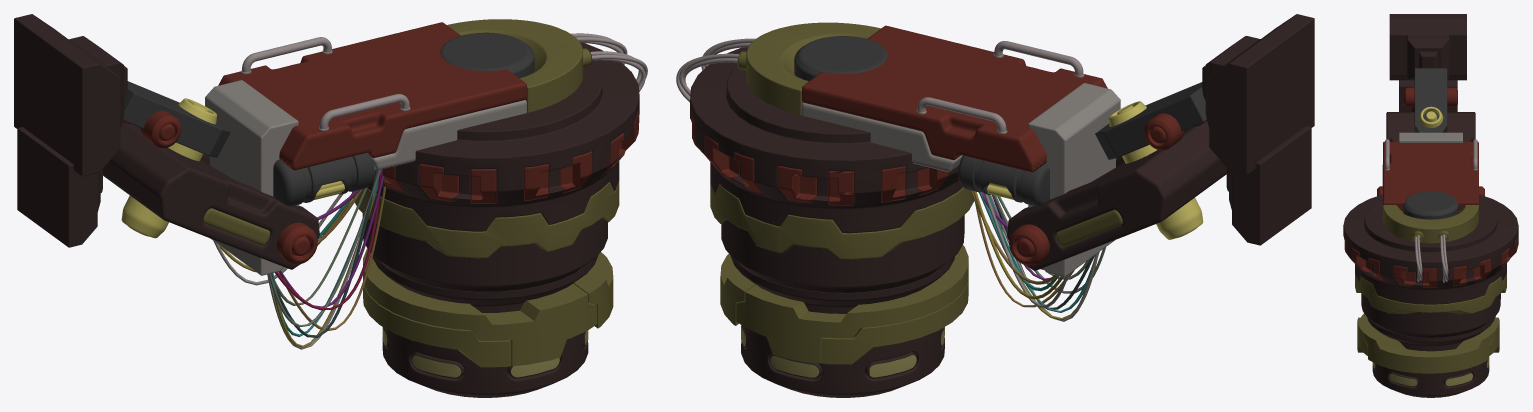
Rendered from 模型测试.fbx.
3 views of the same model, side by side, from view 1: azimuth 30°, elevation 25°; view 2: azimuth 150°, elevation 25°; view 3: azimuth 270°, elevation 25° (orthographic). The views are drawn at different scales.
Visible parts, largest first — view 1: 柱体.047, 柱体.044, 立方体.050, 柱体, Slice.003, 柱体.042, 柱体.043, Slice.009, 立方体.078, 柱体.045, GeoCables.003, 柱体.032 (+14 smaller); view 2: 柱体.047, 柱体.044, 立方体.050, Slice.003, 柱体, 柱体.042, Slice.009, 柱体.043, 立方体.078, 柱体.045, 柱体.041, 柱体.046 (+14 smaller); view 3: 柱体.047, 柱体.044, 立方体.050, Slice.003, Slice.004, 柱体.045, Slice.009, 柱体.041, 柱体.042, 柱体.046, Slice.005, Slice.006 (+7 smaller).
Part boxes in pixels (<box>): 柱体.047: <box>367,43,639,397</box>; 柱体.044: <box>218,22,526,170</box>; 立方体.050: <box>14,14,127,176</box>; 柱体: <box>363,248,597,367</box>; Slice.003: <box>362,213,607,312</box>; 柱体.042: <box>103,122,319,269</box>; 柱体.043: <box>205,80,298,275</box>; Slice.009: <box>352,181,619,258</box>; 立方体.078: <box>17,127,102,247</box>; 柱体.045: <box>447,19,592,112</box>; GeoCables.003: <box>267,168,385,349</box>; 柱体.032: <box>273,152,374,206</box>; 柱体.047: <box>690,47,962,397</box>; 柱体.044: <box>802,25,1107,172</box>; 立方体.050: <box>1202,14,1314,175</box>; Slice.003: <box>721,215,964,313</box>; 柱体: <box>735,245,968,364</box>; 柱体.042: <box>1007,121,1226,270</box>; Slice.009: <box>710,183,974,259</box>; 柱体.043: <box>1028,83,1120,276</box>; 立方体.078: <box>1226,126,1311,245</box>; 柱体.045: <box>737,22,880,115</box>; 柱体.041: <box>1095,82,1206,159</box>; 柱体.046: <box>794,36,887,80</box>; 柱体.047: <box>1343,194,1518,397</box>; 柱体.044: <box>1383,141,1478,211</box>; 立方体.050: <box>1389,14,1466,80</box>; Slice.003: <box>1361,293,1500,351</box>; Slice.004: <box>1363,332,1493,373</box>; 柱体.045: <box>1383,205,1478,243</box>; Slice.009: <box>1355,273,1506,313</box>; 柱体.041: <box>1414,68,1447,132</box>; 柱体.042: <box>1386,112,1475,141</box>; 柱体.046: <box>1403,191,1458,219</box>; Slice.005: <box>1352,247,1509,286</box>; Slice.006: <box>1344,236,1517,287</box>.
Bounding box in the file's own units: 730 × 512 × 326.
